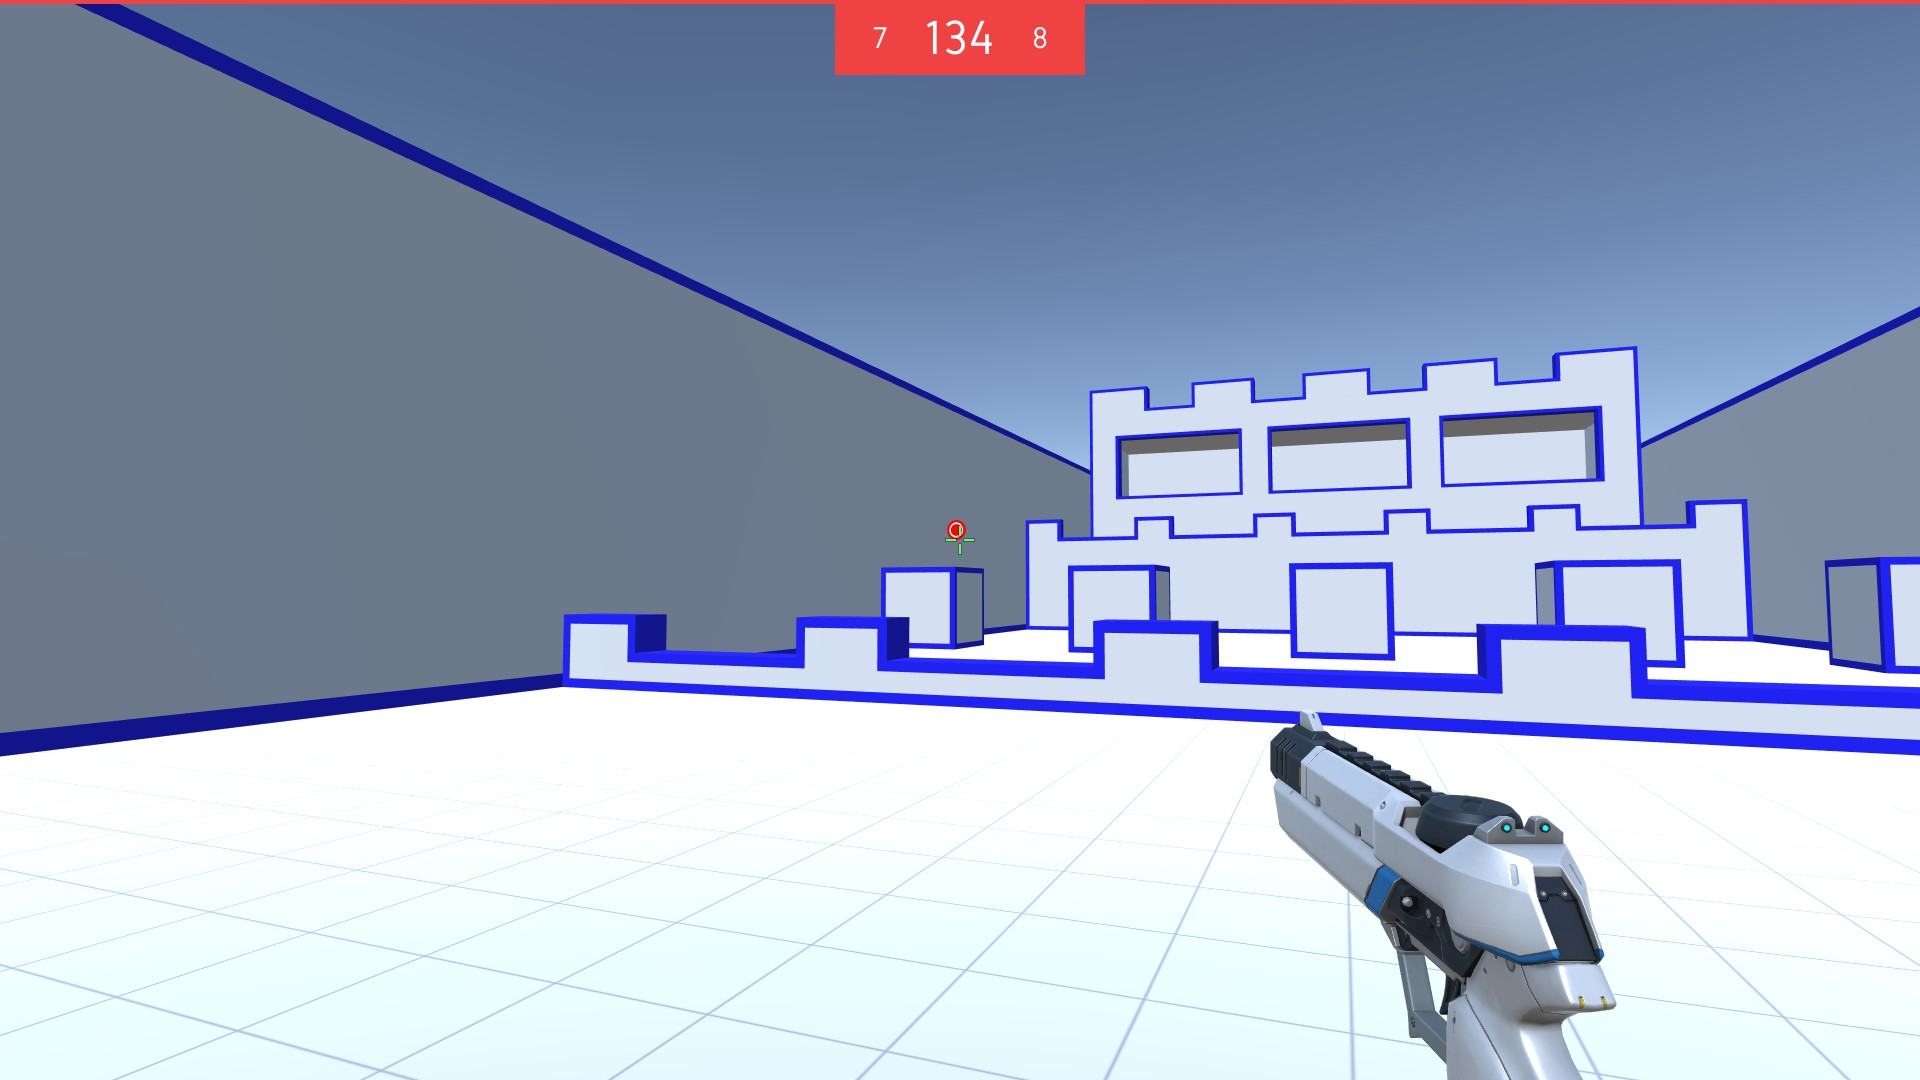target: (945, 518, 968, 542)
